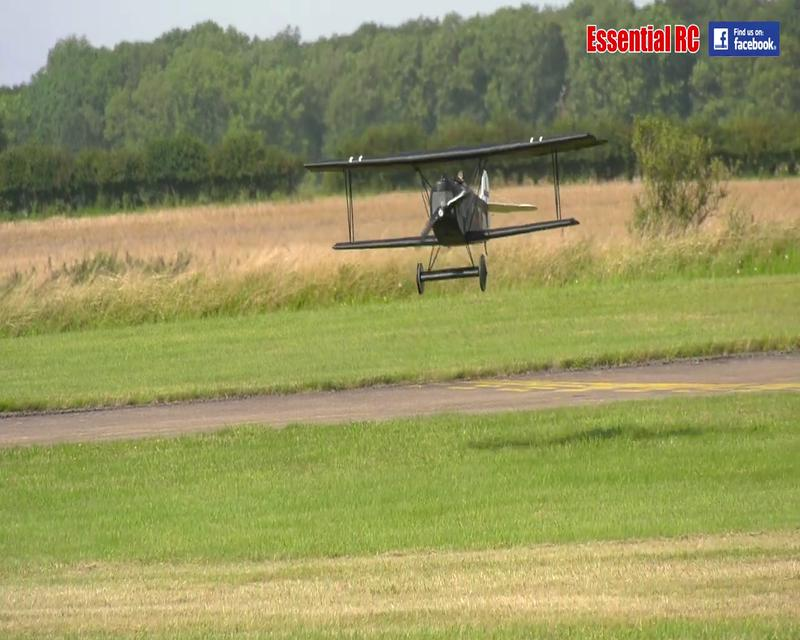UAV: (301, 132, 608, 296)
